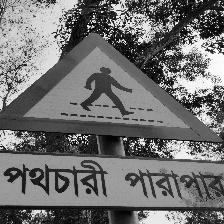Pedestrian-crossing: (0, 23, 223, 211)
